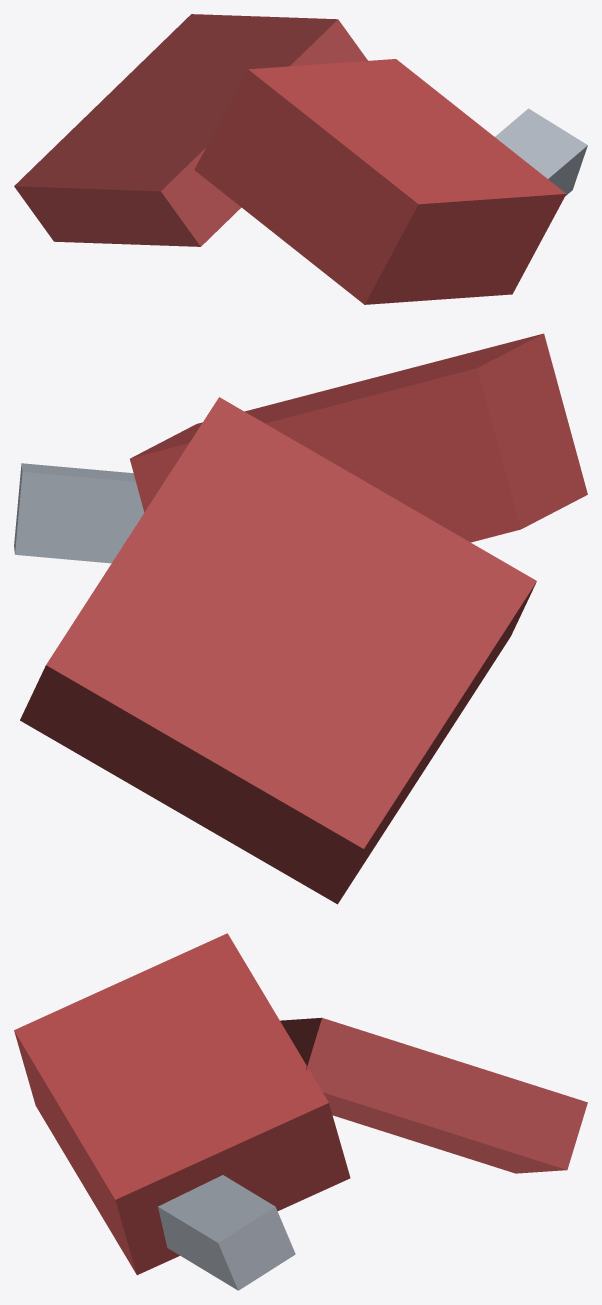
Rendered from pickup-truck-wreck.glb.
The picture shows the model from 3 angles, top to bottom: view 1: azimuth 30°, elevation 25°; view 2: azimuth 150°, elevation 25°; view 3: azimuth 270°, elevation 25°; orthographic projection. The views are drawn at different scales.
Visible parts, largest first — view 1: Root; view 2: Root; view 3: Root.
Boxes of the visible parts, x1,y1,x2,y2 form: Root: [14, 14, 587, 304]; Root: [14, 333, 587, 904]; Root: [14, 933, 587, 1290].
Bounding box in the file's own units: 3.91 × 2.45 × 4.85.
